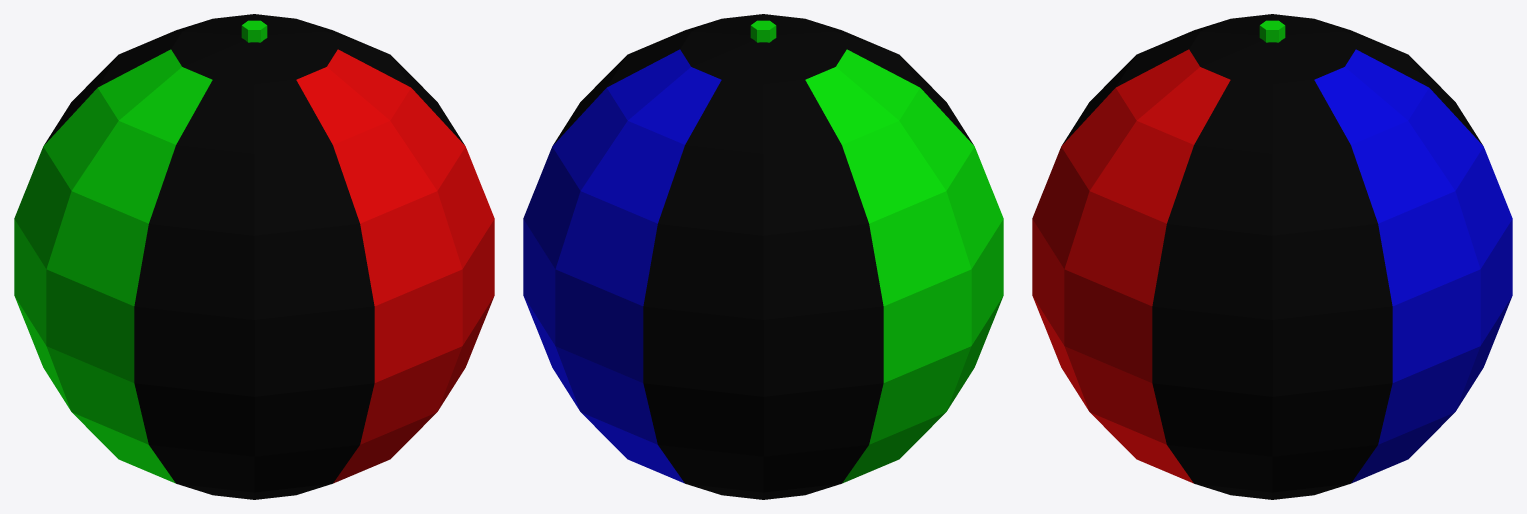
The model's file is SM_TN_BalonPlaya.fbx.
3 renders of one model, left to right at view 1: azimuth 30°, elevation 25°; view 2: azimuth 150°, elevation 25°; view 3: azimuth 270°, elevation 25°, orthographic.
Parts seen in each view (by area): view 1: SM_TN_BalonPlaya; view 2: SM_TN_BalonPlaya; view 3: SM_TN_BalonPlaya.
Part boxes in pixels (x1=…): SM_TN_BalonPlaya: x1=14, y1=14, x2=494, y2=499; SM_TN_BalonPlaya: x1=523, y1=14, x2=1003, y2=499; SM_TN_BalonPlaya: x1=1032, y1=14, x2=1512, y2=499.
Size of the model in its own units: 49.24 by 51.2 by 49.24.
